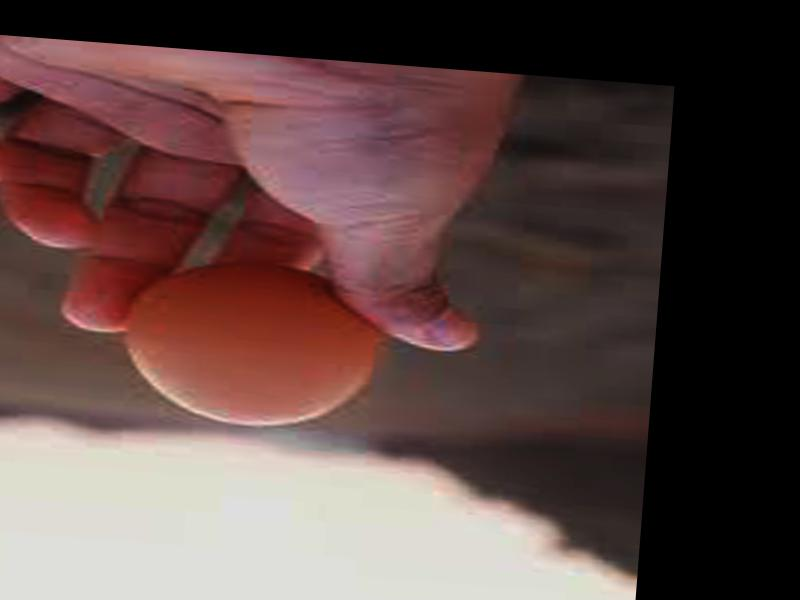Eggs: (118, 256, 383, 434)
